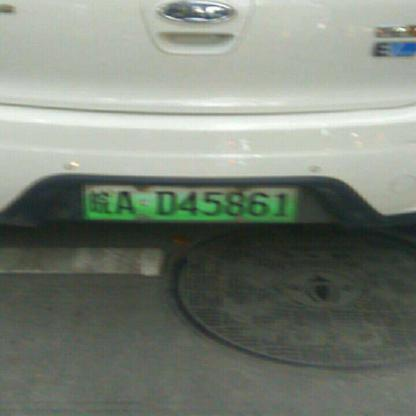lp: (83, 185, 298, 220)
